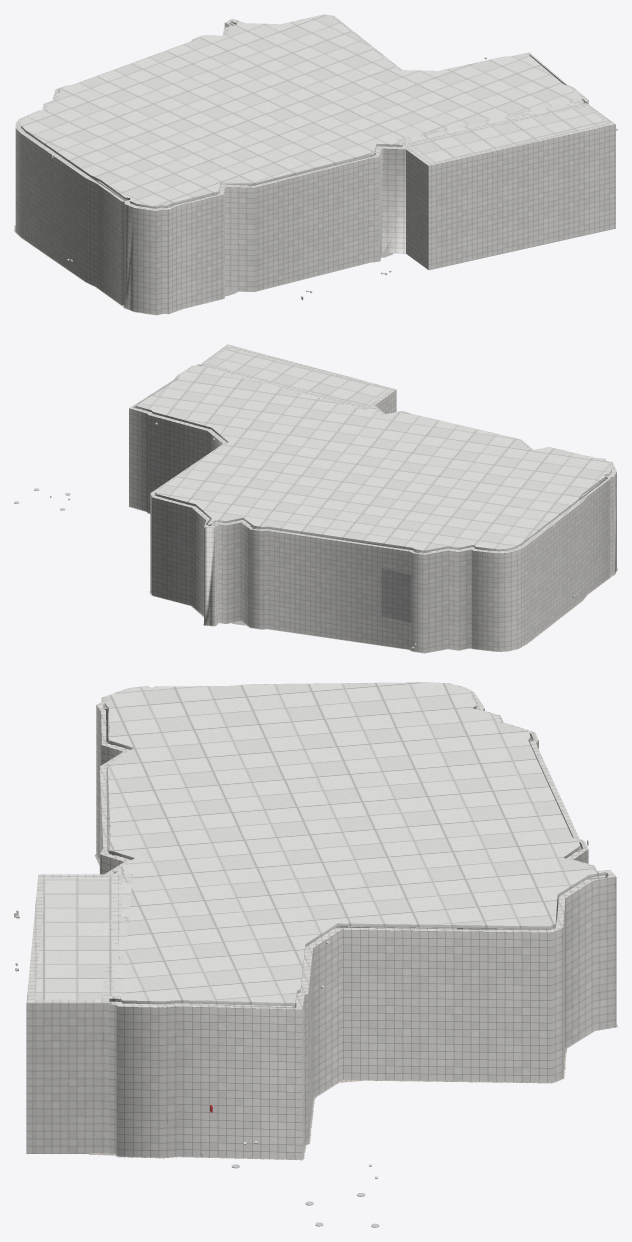
Rendered from cocina_quest_2caf7bb9fcdd.glb.
The picture shows the model from 3 angles, top to bottom: view 1: azimuth 30°, elevation 25°; view 2: azimuth 150°, elevation 25°; view 3: azimuth 270°, elevation 25°; orthographic projection. The views are drawn at different scales.
Parts seen in each view (by area): view 1: Z_cocina_tile_w, Z_cocina_ceil, WALL_FOOTPRINT_LINE; view 2: Z_cocina_tile_w, Z_cocina_ceil, GLASS_3, WALL_FOOTPRINT_LINE; view 3: Z_cocina_ceil, Z_cocina_tile_w, WALL_FOOTPRINT_LINE.
Part boxes in pixels (<box>): Z_cocina_tile_w: <box>15,14,615,314</box>; Z_cocina_ceil: <box>21,15,607,208</box>; WALL_FOOTPRINT_LINE: <box>14,225,405,315</box>; Z_cocina_tile_w: <box>129,344,616,652</box>; Z_cocina_ceil: <box>136,347,611,552</box>; GLASS_3: <box>382,568,410,622</box>; WALL_FOOTPRINT_LINE: <box>128,506,617,653</box>; Z_cocina_ceil: <box>35,682,606,1006</box>; Z_cocina_tile_w: <box>26,682,616,1160</box>; WALL_FOOTPRINT_LINE: <box>89,854,617,1159</box>.
Bounding box in the file's own units: 17 × 3.08 × 10.91.
30 materials, 4 textured.
